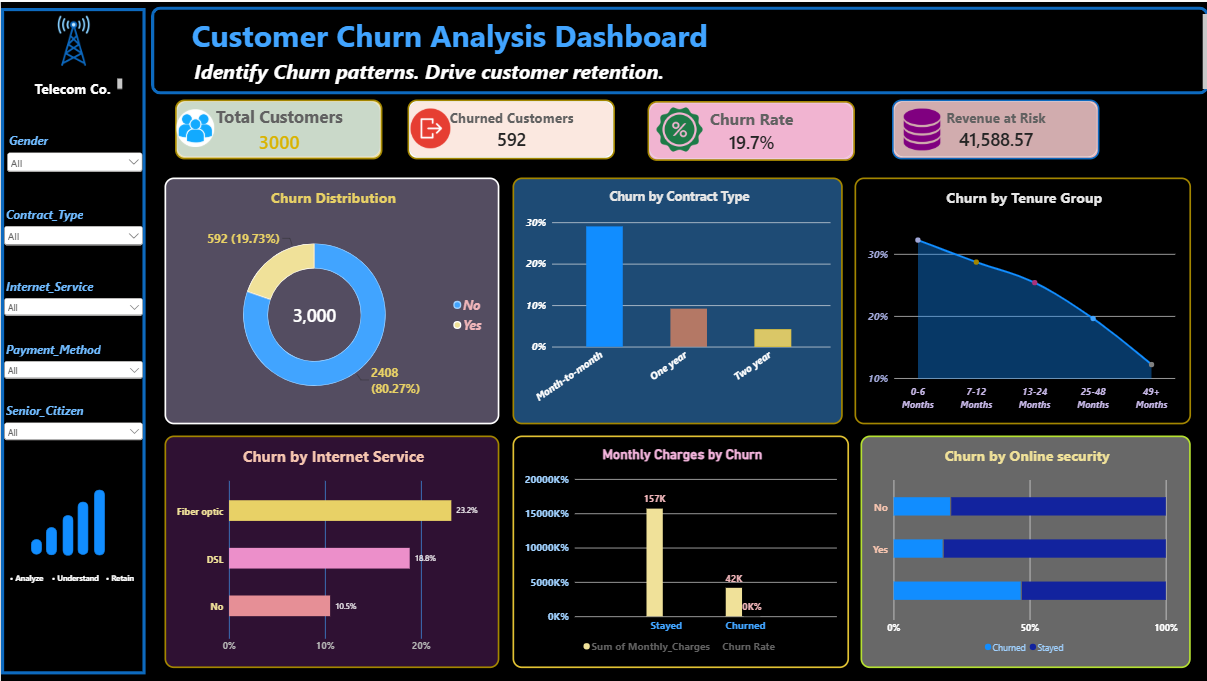

The page's visual inventory and layout, read from the dashboard file:
{"tool":"powerbi","page":{"name":"Page 1","canvas":[1920,1080],"ordinal":0},"visuals":[{"type":"shape","box":[0,10,230,1060],"z":0},{"type":"shape","box":[237.5,7.5,1682.5,140],"z":1000},{"type":"image","box":[40,20,150,85],"z":2000},{"type":"textbox","box":[42.5,122.5,150,42.5],"z":3000},{"type":"slicer","fields":{"Values":["customer_churn_analysis_dataset.Gender"]},"box":[5,207.5,225,90],"z":4000},{"type":"slicer","fields":{"Values":["customer_churn_analysis_dataset.Contract_Type"]},"box":[0,325,230,62.5],"z":5000},{"type":"slicer","fields":{"Values":["customer_churn_analysis_dataset.Internet_Service"]},"box":[0,440,230,62.5],"z":6000},{"type":"slicer","fields":{"Values":["customer_churn_analysis_dataset.Payment_Method"]},"box":[0,540,230,67.5],"z":7000},{"type":"slicer","fields":{"Values":["customer_churn_analysis_dataset.Senior_Citizen"]},"box":[0,637.5,230,67.5],"z":8000},{"type":"shape","box":[47.5,855,17.5,25],"z":9000},{"type":"shape","box":[72.5,835,17.5,45],"z":10000},{"type":"shape","box":[97.5,815,17.5,65],"z":11000},{"type":"shape","box":[122.5,795,17.5,85],"z":12000},{"type":"shape","box":[147.5,775,17.5,105],"z":13000},{"type":"textbox","box":[5,910,67.5,85],"z":14000},{"type":"textbox","box":[72.5,910,157.5,150],"z":15000},{"type":"textbox","box":[157.5,910,80,120],"z":16000},{"type":"textbox","box":[277.5,20,1642.5,125],"z":17000},{"type":"cardVisual","fields":{"Data":["customer_churn_analysis_dataset.Total Customers"]},"box":[277.5,155,330,95],"z":17001},{"type":"image","box":[280,165,60,72.5],"z":17002},{"type":"cardVisual","fields":{"Data":["customer_churn_analysis_dataset.Churned Customers"]},"box":[647.5,155,330,95],"z":17003},{"type":"cardVisual","fields":{"Data":["customer_churn_analysis_dataset.Churn Rate"]},"box":[1027.5,157.5,330,95],"z":17004},{"type":"cardVisual","fields":{"Data":["customer_churn_analysis_dataset.Revenue at Risk"]},"box":[1417.5,155,330,95],"z":17005},{"type":"image","box":[640,170,86.7,63.3],"z":17006},{"type":"image","box":[1043.3,156.7,73.3,90],"z":17007},{"type":"image","box":[1403.3,170,123.3,66.7],"z":17008},{"type":"donutChart","title":"Churn Distribution","fields":{"Category":["customer_churn_analysis_dataset.Churn"],"Y":["CountNonNull(customer_churn_analysis_dataset.Customer_ID)"]},"box":[260,280,532.5,392.5],"z":17009},{"type":"clusteredColumnChart","title":"Churn by Contract Type","fields":{"Category":["customer_churn_analysis_dataset.Contract_Type"],"Y":["customer_churn_analysis_dataset.Churn Rate"]},"box":[812.5,280,525,392.5],"z":17010},{"type":"areaChart","title":"Churn by Tenure Group","fields":{"Category":["customer_churn_analysis_dataset.Tenure_Group"],"Y":["customer_churn_analysis_dataset.Churn Rate"]},"box":[1357.5,280,535,392.5],"z":17011},{"type":"clusteredBarChart","title":"Churn by Internet Service","fields":{"Category":["customer_churn_analysis_dataset.Internet_Service"],"Y":["customer_churn_analysis_dataset.Churn Rate"]},"box":[260,690,532.5,370],"z":17012},{"type":"hundredPercentStackedBarChart","title":"Churn by Online security","fields":{"Category":["customer_churn_analysis_dataset.Online_Security"],"Series":["customer_churn_analysis_dataset.Churn Status"],"Y":["CountNonNull(customer_churn_analysis_dataset.Customer_ID)"]},"box":[1367.5,690,525,370],"z":17013},{"type":"clusteredColumnChart","title":"Monthly Charges by Churn","fields":{"Category":["customer_churn_analysis_dataset.Churn Status"],"Y":["Sum(customer_churn_analysis_dataset.Monthly_Charges)","customer_churn_analysis_dataset.Churn Rate"]},"box":[812.5,690,535,370],"z":17014}]}

Visuals, with their boxes in screenshot pixels (x1, y1, x2, y2), scaled from the page's 1920x1080 canvas onto the 1207x681 screenshot:
shape: [0,6,145,675]
shape: [149,5,1206,93]
image: [25,13,119,66]
textbox: [27,77,121,104]
slicer - customer_churn_analysis_dataset.Gender: [3,131,145,188]
slicer - customer_churn_analysis_dataset.Contract_Type: [0,205,145,244]
slicer - customer_churn_analysis_dataset.Internet_Service: [0,277,145,317]
slicer - customer_churn_analysis_dataset.Payment_Method: [0,340,145,383]
slicer - customer_churn_analysis_dataset.Senior_Citizen: [0,402,145,445]
shape: [30,539,41,555]
shape: [46,527,57,555]
shape: [61,514,72,555]
shape: [77,501,88,555]
shape: [93,489,104,555]
textbox: [3,574,46,627]
textbox: [46,574,145,668]
textbox: [99,574,149,649]
textbox: [174,13,1206,91]
cardVisual - customer_churn_analysis_dataset.Total Customers: [174,98,382,158]
image: [176,104,214,150]
cardVisual - customer_churn_analysis_dataset.Churned Customers: [407,98,615,158]
cardVisual - customer_churn_analysis_dataset.Churn Rate: [646,99,853,159]
cardVisual - customer_churn_analysis_dataset.Revenue at Risk: [891,98,1099,158]
image: [402,107,457,147]
image: [656,99,702,156]
image: [882,107,960,149]
"Churn Distribution" donutChart: [163,177,498,424]
"Churn by Contract Type" clusteredColumnChart: [511,177,841,424]
"Churn by Tenure Group" areaChart: [853,177,1190,424]
"Churn by Internet Service" clusteredBarChart: [163,435,498,668]
"Churn by Online security" hundredPercentStackedBarChart: [860,435,1190,668]
"Monthly Charges by Churn" clusteredColumnChart: [511,435,847,668]
